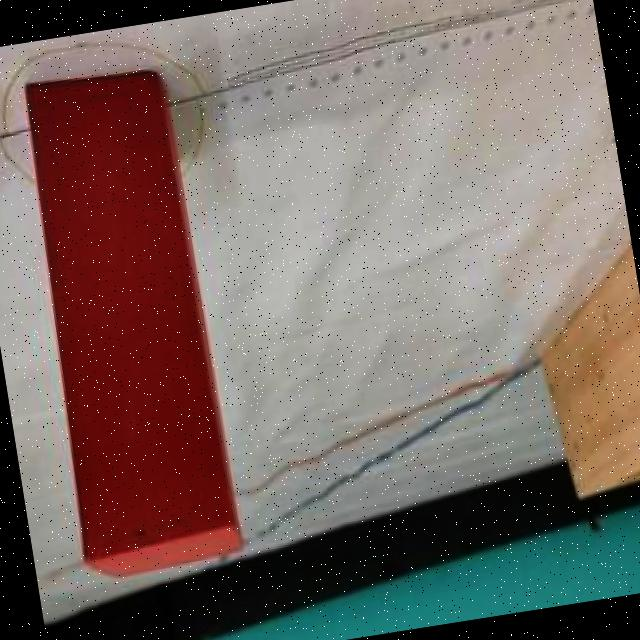redbox: (5, 59, 248, 586)
